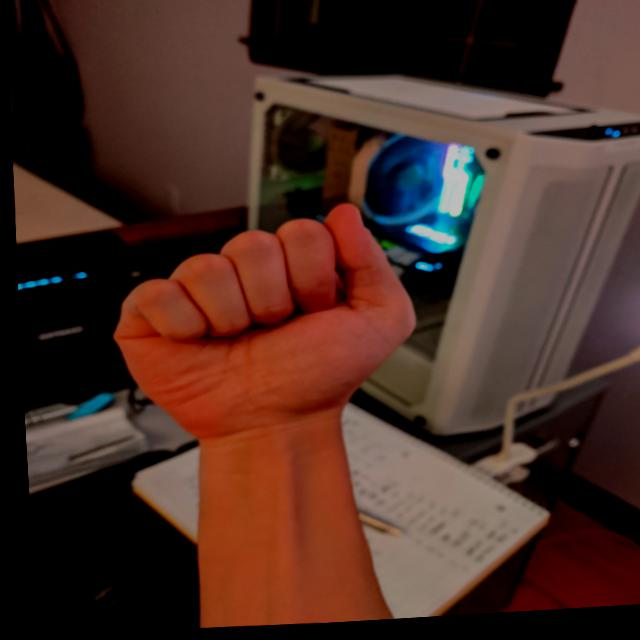A: (88, 194, 428, 450)
